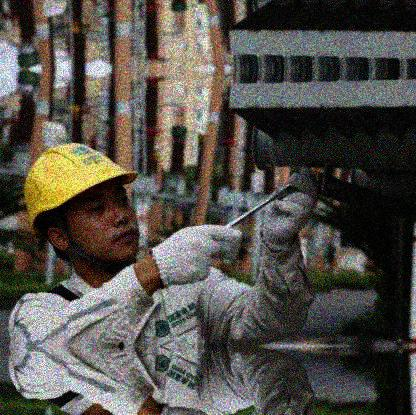helmet: (22, 142, 141, 263)
